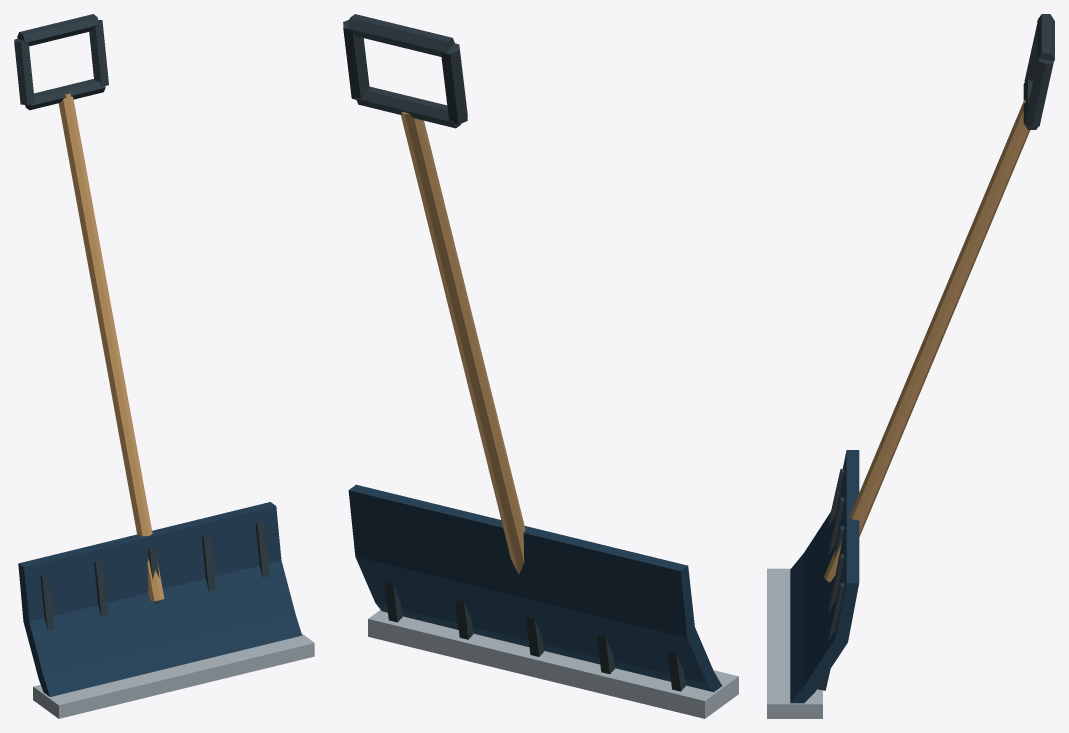
File: b20_wide_push_snow_shovel.glb
The picture shows the model from 3 angles, left to right: view 1: azimuth 30°, elevation 25°; view 2: azimuth 150°, elevation 25°; view 3: azimuth 270°, elevation 25°; orthographic projection. The views are drawn at different scales.
Parts seen in each view (by area): view 1: b20_wide_push_snow_shovel; view 2: b20_wide_push_snow_shovel; view 3: b20_wide_push_snow_shovel.
Boxes of the visible parts, x1,y1,x2,y2 form: b20_wide_push_snow_shovel: [14, 14, 314, 718]; b20_wide_push_snow_shovel: [343, 14, 738, 718]; b20_wide_push_snow_shovel: [767, 14, 1054, 718].
Bounding box in the file's own units: 0.69 × 1.47 × 0.619.
